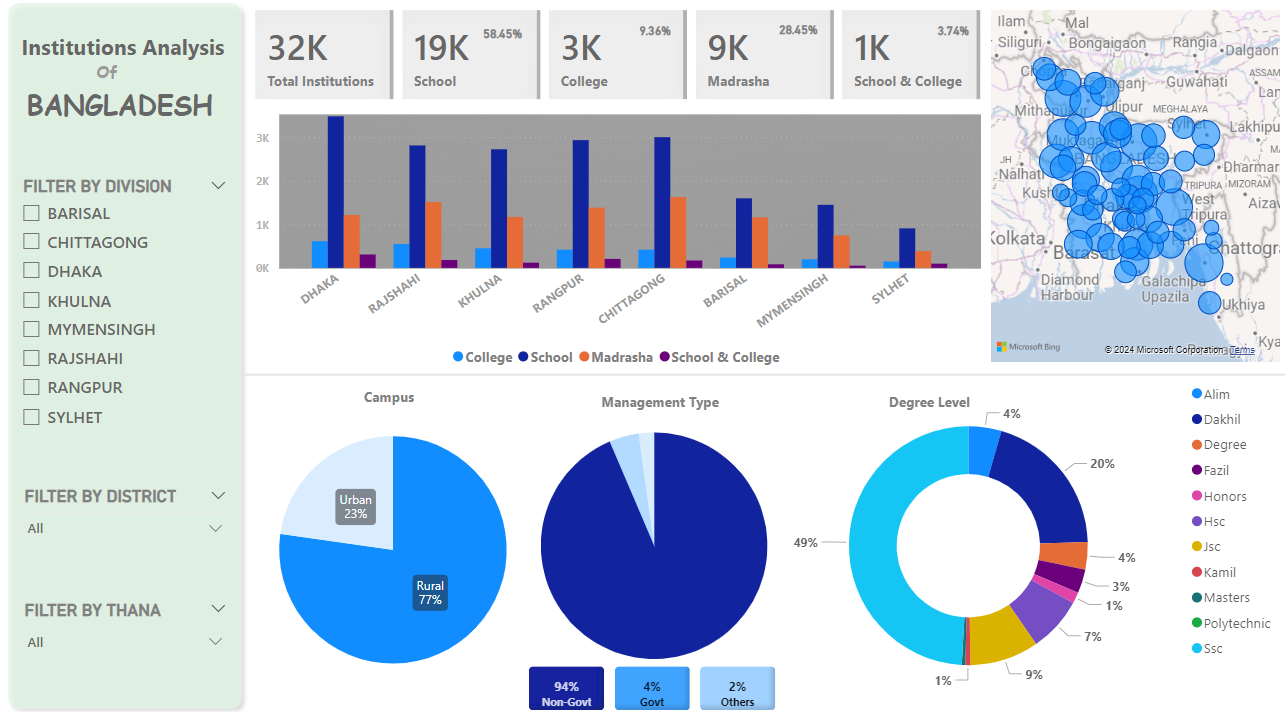

The page's visual inventory and layout, read from the dashboard file:
{"tool":"powerbi","page":{"name":"Page 1","canvas":[1280,720],"ordinal":0},"visuals":[{"type":"cardVisual","fields":{"Data":["All Measures.Total Institutions","All Measures.Total School","All Measures.Total College","All Measures.Total Madrasha","All Measures.Total School an College"]},"box":[250.5,10.7,732.7,99.9],"z":0},{"type":"shape","box":[0,0,250,720.3],"z":1000},{"type":"slicer","fields":{"Values":["Dataset.DIVISION"]},"box":[11.4,177.1,227.1,308.6],"z":2000},{"type":"cardVisual","fields":{"Data":["All Measures.School & College %"]},"box":[892.6,1.3,113.2,63.9],"z":3000},{"type":"cardVisual","fields":{"Data":["All Measures.Madrasha %"]},"box":[739.4,0,113.2,63.9],"z":4000},{"type":"cardVisual","fields":{"Data":["All Measures.College %"]},"box":[595.5,1.3,114.6,63.9],"z":5000},{"type":"cardVisual","fields":{"Data":["All Measures.School %"]},"box":[463.6,8,74.6,49.3],"z":6000},{"type":"slicer","fields":{"Values":["Dataset.DISTRICT"]},"box":[12.9,485.7,225.7,82.9],"z":7000},{"type":"clusteredColumnChart","fields":{"Y":["All Measures.Graph College","All Measures.Graph School","All Measures.Graph Madrasha","All Measures.Graph School & College"],"Category":["Dataset.DIVISION"]},"box":[250.5,106.6,732.7,273.1],"z":8000},{"type":"map","fields":{"Size":["All Measures.Universal %"],"Category":["Dataset.DISTRICT","Dataset.DIVISION"]},"box":[983.2,10.7,297.1,359.7],"z":9000},{"type":"pieChart","fields":{"Y":["All Measures.Total  RURAL","All Measures.Urban"]},"box":[189.2,386.3,406.3,333.1],"z":10000},{"type":"textbox","box":[358.4,386.3,69.3,29.3],"z":11000},{"type":"shape","box":[238.5,358.4,1041.8,41.3],"z":12000},{"type":"textbox","box":[594.2,391.7,185.2,48],"z":13000},{"type":"slicer","fields":{"Values":["Dataset.THANA"]},"box":[12.9,598.6,225.7,82.9],"z":14000},{"type":"cardVisual","fields":{"Data":["All Measures.Non-Govt %","All Measures.Govt %","All Measures.Others %"]},"box":[522.2,664.8,257.1,54.6],"z":15000},{"type":"pieChart","fields":{"Y":["All Measures.Non-Govt %","All Measures.Govt %","All Measures.Others %"]},"box":[506.2,379.7,291.8,339.7],"z":16000},{"type":"donutChart","fields":{"Y":["All Measures.Level Alim","All Measures.Level Dakhil","All Measures.Level Degree","All Measures.Level Fazil","All Measures.Level Honors","All Measures.Level Hsc","All Measures.Level Jsc","All Measures.Level Kamil","All Measures.Level Masters","All Measures.Level Polytechnic","All Measures.Level Ssc"]},"box":[739.4,379.7,540.9,339.7],"z":17000},{"type":"textbox","box":[880.6,391.7,137.2,29.3],"z":17001},{"type":"textbox","box":[17.4,32.3,225.2,49.8],"z":17002},{"type":"textbox","box":[22.6,85.3,215.8,50.6],"z":17003},{"type":"textbox","box":[91.9,61.3,69.3,50.6],"z":17004}]}

Visuals, with their boxes in screenshot pixels (x1, y1, x2, y2), scaled from the page's 1280x720 canvas onto the 1285x712 screenshot:
cardVisual - All Measures.Total Institutions x All Measures.Total School: crop(251, 11, 987, 109)
shape: crop(0, 0, 251, 711)
slicer - Dataset.DIVISION: crop(11, 175, 239, 480)
cardVisual - All Measures.School & College %: crop(896, 1, 1010, 64)
cardVisual - All Measures.Madrasha %: crop(742, 0, 856, 63)
cardVisual - All Measures.College %: crop(598, 1, 713, 64)
cardVisual - All Measures.School %: crop(465, 8, 540, 57)
slicer - Dataset.DISTRICT: crop(13, 480, 240, 562)
clusteredColumnChart - All Measures.Graph College x All Measures.Graph School: crop(251, 105, 987, 375)
map - All Measures.Universal % x Dataset.DISTRICT: crop(987, 11, 1284, 366)
pieChart - All Measures.Total  RURAL x All Measures.Urban: crop(190, 382, 598, 711)
textbox: crop(360, 382, 429, 411)
shape: crop(239, 354, 1284, 395)
textbox: crop(597, 387, 782, 435)
slicer - Dataset.THANA: crop(13, 592, 240, 674)
cardVisual - All Measures.Non-Govt % x All Measures.Govt %: crop(524, 657, 782, 711)
pieChart - All Measures.Non-Govt % x All Measures.Govt %: crop(508, 375, 801, 711)
donutChart - All Measures.Level Alim x All Measures.Level Dakhil: crop(742, 375, 1284, 711)
textbox: crop(884, 387, 1022, 416)
textbox: crop(17, 32, 244, 81)
textbox: crop(23, 84, 239, 134)
textbox: crop(92, 61, 162, 111)
